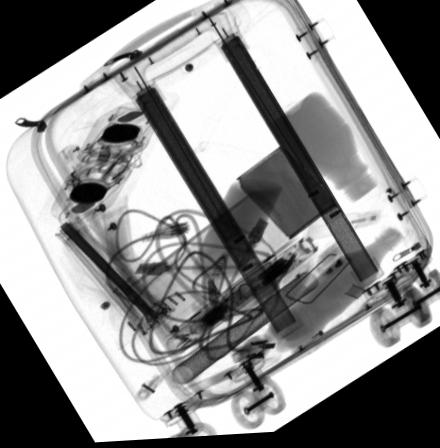Baton: (167, 238, 317, 355)
